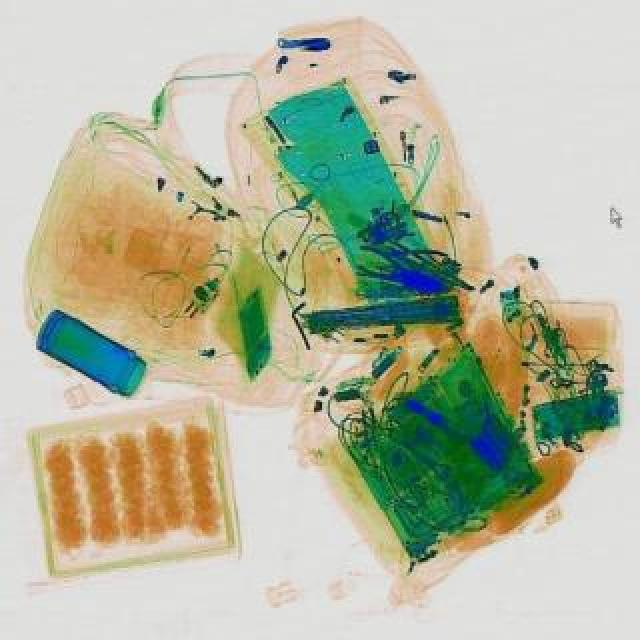wrench: (348, 240, 432, 296), (378, 234, 450, 280)
